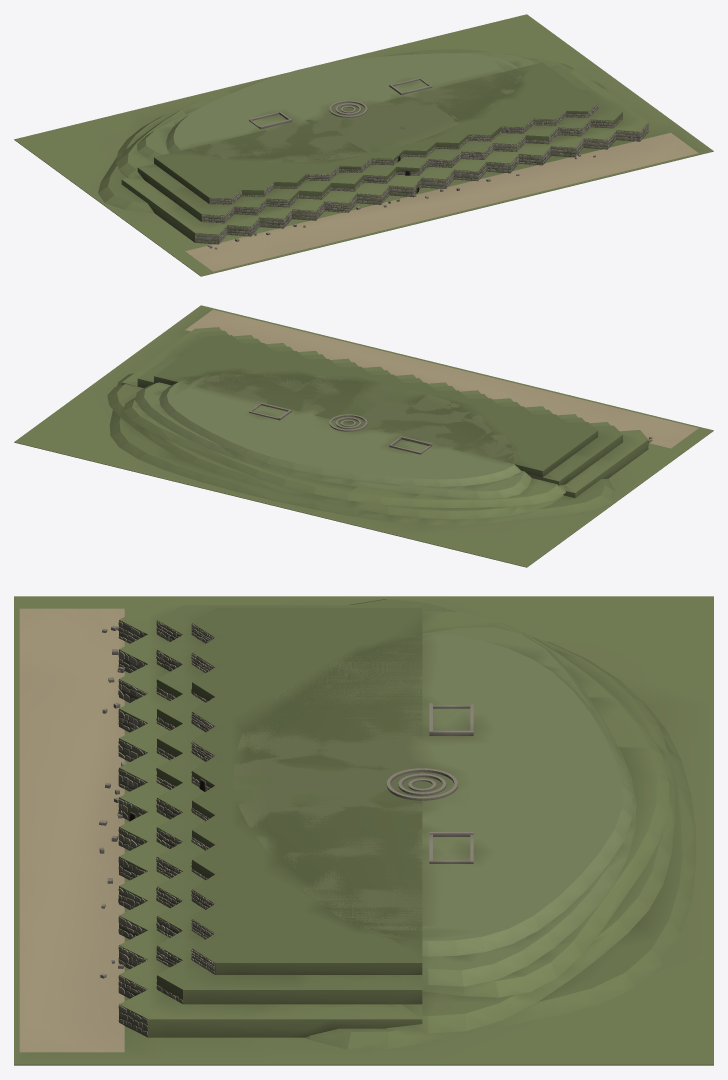
Rendered from sacsayhuaman-ruin.glb.
3 renders of one model, top to bottom at view 1: azimuth 30°, elevation 25°; view 2: azimuth 150°, elevation 25°; view 3: azimuth 270°, elevation 25°, orthographic. The views are drawn at different scales.
Parts seen in each view (by area): view 1: p0_hill, p1_walls; view 2: p0_hill, p1_walls; view 3: p0_hill, p1_walls.
Boxes of the visible parts, left/top/right/bottom form: p0_hill: left=14, top=14, right=713, bottom=276; p1_walls: left=195, top=77, right=648, bottom=249; p0_hill: left=14, top=305, right=713, bottom=567; p1_walls: left=249, top=337, right=652, bottom=454; p0_hill: left=14, top=596, right=713, bottom=1065; p1_walls: left=99, top=610, right=473, bottom=1036.
Bounding box in the file's own units: 380 × 18.85 × 240.
